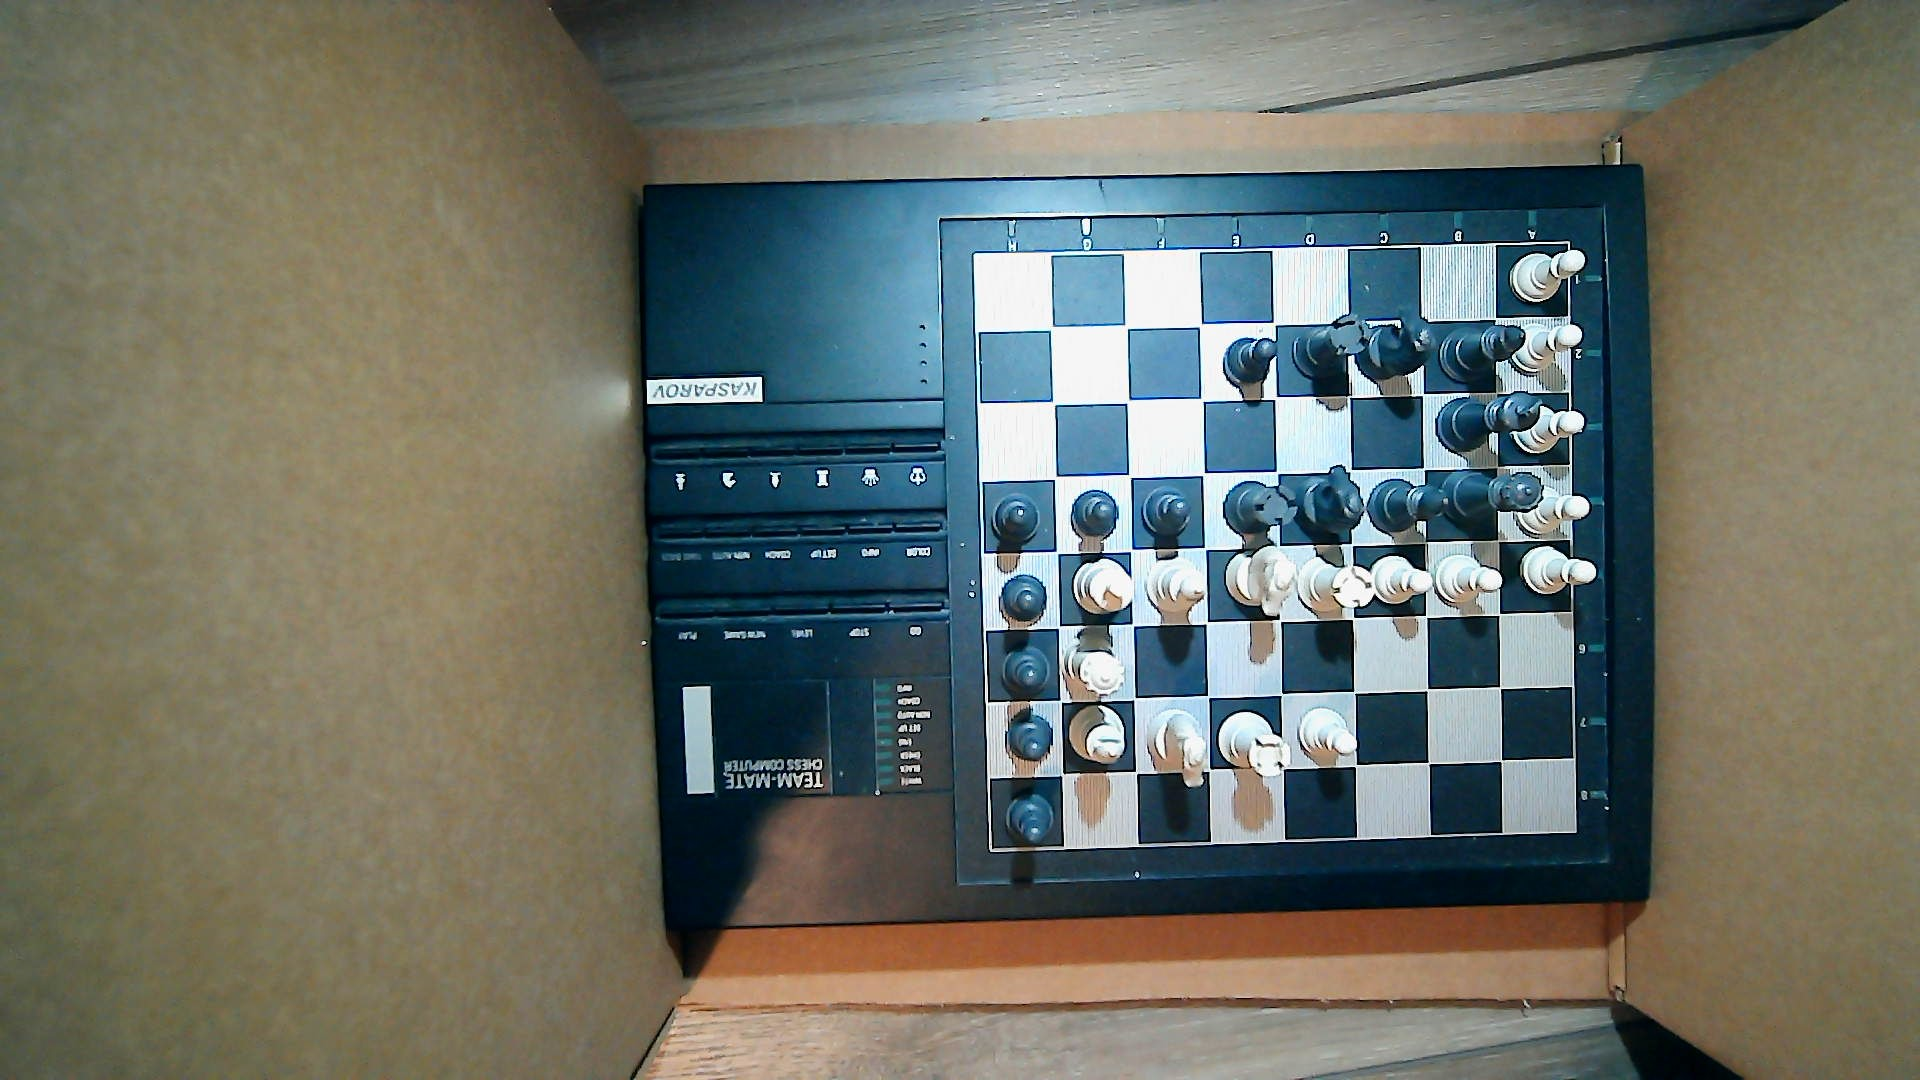bbishop: (1440, 323, 1528, 384), (1366, 477, 1451, 535)
bking: (1436, 396, 1543, 454)
bknight: (1364, 305, 1437, 381), (1296, 465, 1366, 535)
bpawn: (1221, 328, 1276, 388), (1004, 793, 1058, 848), (1002, 644, 1054, 700), (989, 493, 1044, 543), (1004, 713, 1056, 764), (1141, 487, 1195, 535), (1071, 489, 1121, 539), (1000, 574, 1044, 622)
bqueen: (1437, 468, 1544, 524)
brook: (1292, 313, 1370, 378), (1221, 481, 1299, 535)
wbishop: (1067, 705, 1129, 765), (1143, 556, 1208, 613)
wking: (1072, 556, 1135, 615)
wknight: (1145, 708, 1213, 789), (1226, 545, 1294, 618)
wpawn: (1515, 477, 1592, 534), (1520, 543, 1600, 597), (1509, 251, 1586, 305), (1510, 320, 1584, 376), (1433, 550, 1502, 607), (1519, 401, 1585, 454), (1370, 554, 1435, 607), (1295, 707, 1360, 760)
wqueen: (1062, 636, 1127, 698)
wrook: (1215, 708, 1291, 778), (1298, 554, 1375, 613)
